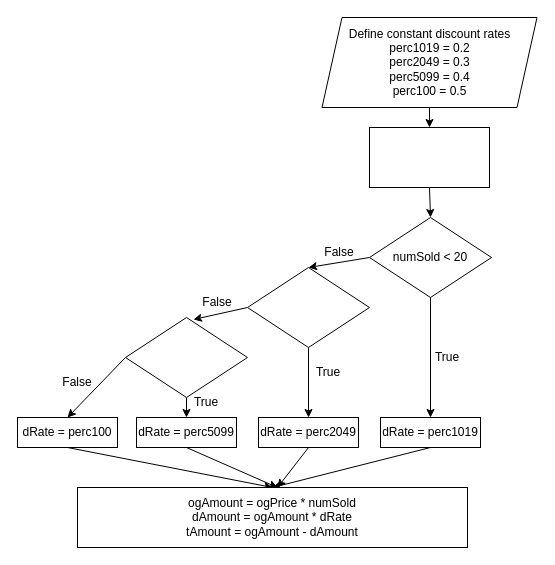
Some shapes in this 555 by 565 pixel diagram are drawn without their labels. The shapes that lost their labels are listed below. From the top down, each one's centre as x and y in pixels, then its label:
At (x=429, y=157): "Input total number sold: cin >> numSold".
At (x=308, y=307): "numSold < 50".
At (x=186, y=357): "numSold < 100".
